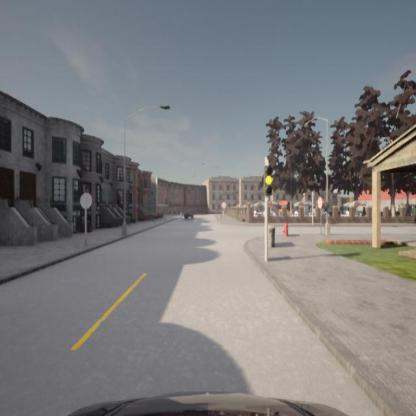traffic_light_orange: (264, 165, 272, 196)
